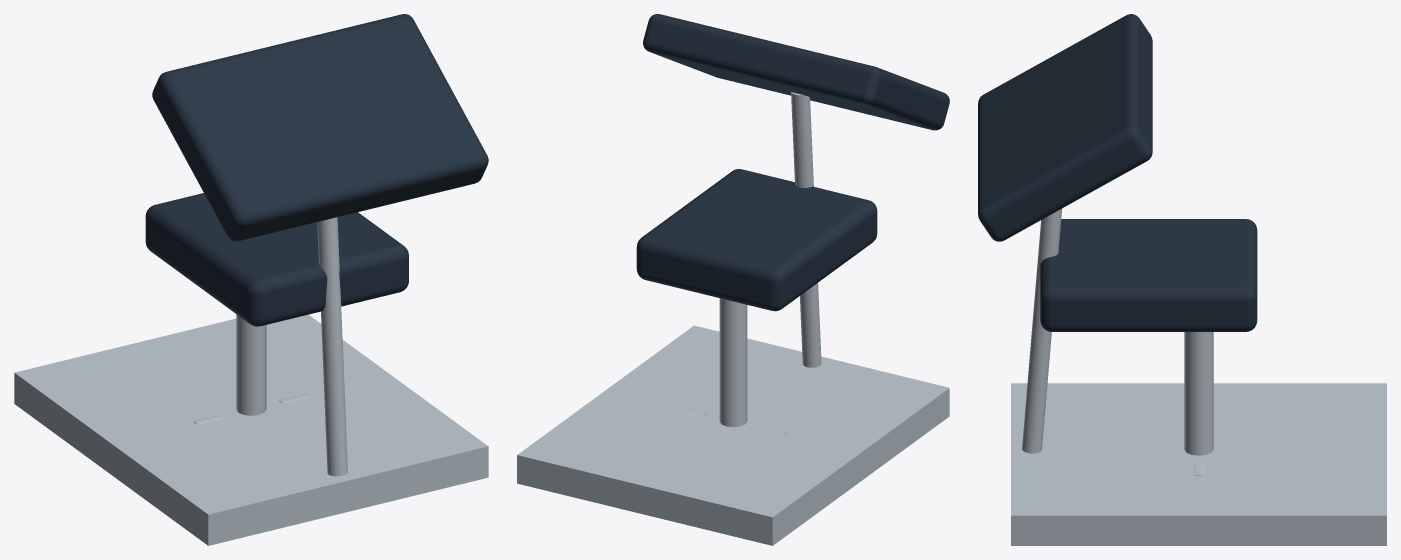
File: dumbbell_preacher.glb
3 views of the same model, side by side, from view 1: azimuth 30°, elevation 25°; view 2: azimuth 150°, elevation 25°; view 3: azimuth 270°, elevation 25° (orthographic). The views are drawn at different scales.
Parts seen in each view (by area): view 1: base, preacherPad, seat, padSupport, post; view 2: base, seat, preacherPad, post, padSupport; view 3: base, preacherPad, seat, padSupport, post.
Boxes of the visible parts, box(x1,y1,x2,y2) form: base: box(14, 314, 488, 545); preacherPad: box(152, 14, 488, 241); seat: box(145, 193, 408, 326); padSupport: box(317, 217, 347, 476); post: box(236, 314, 266, 415); base: box(517, 325, 949, 545); seat: box(636, 169, 877, 311); preacherPad: box(643, 14, 949, 130); post: box(719, 298, 747, 427); padSupport: box(791, 92, 821, 367); base: box(1011, 383, 1386, 545); preacherPad: box(978, 14, 1152, 241); seat: box(1040, 219, 1257, 331); padSupport: box(1022, 208, 1062, 453); post: box(1184, 332, 1213, 455).
Size of the model in its own units: 0.75 by 1.16 by 0.9789.
